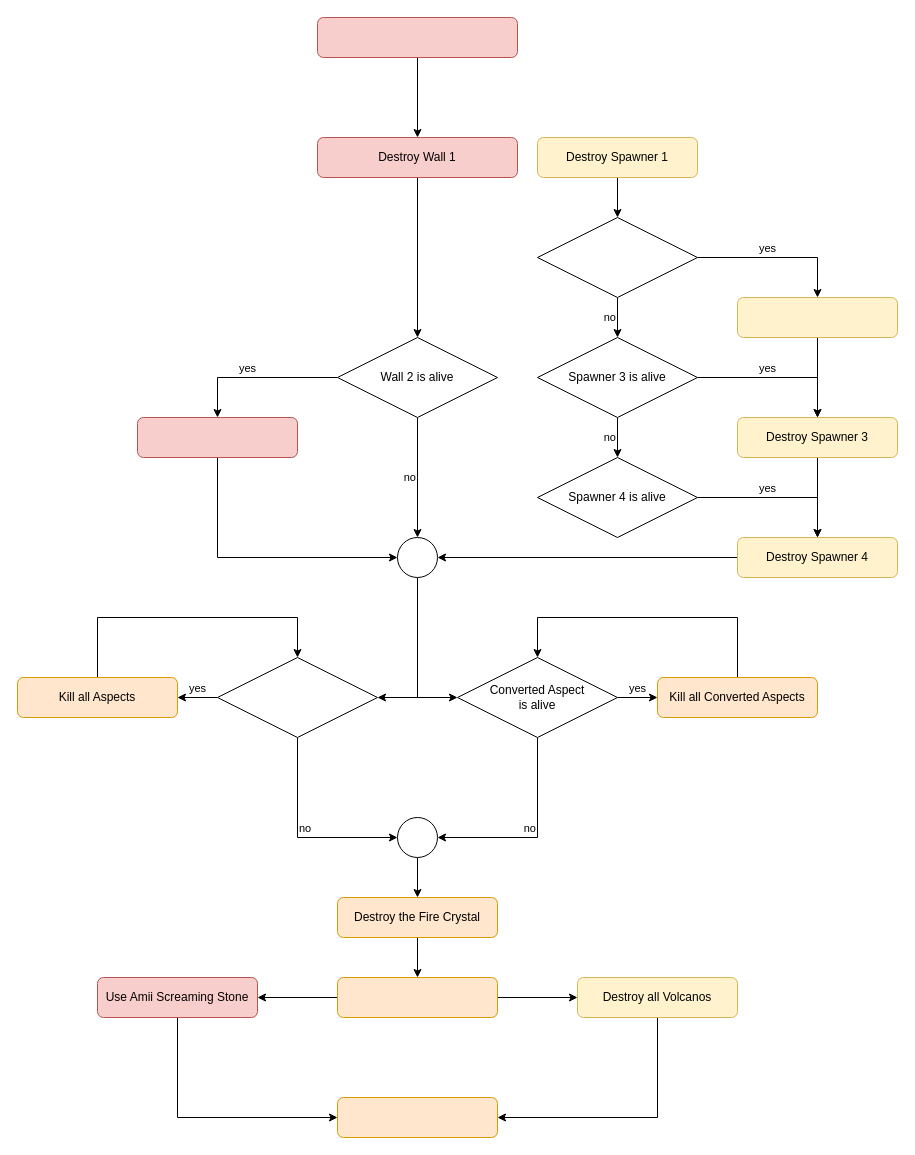
This 915x1155 diagram has some shape labels left out. Here are the shapes that lost their labels. From the top down, the box of each, then its label:
(316, 16, 518, 58): Clear first base
(536, 216, 698, 298): Spawner 2 is alive
(736, 296, 898, 338): Destroy Spawner 2
(136, 416, 298, 458): Destroy Wall 2
(216, 656, 378, 738): Aspect is alive
(336, 976, 498, 1018): Kill the Fireback
(336, 1096, 498, 1138): Kill Abaddon
